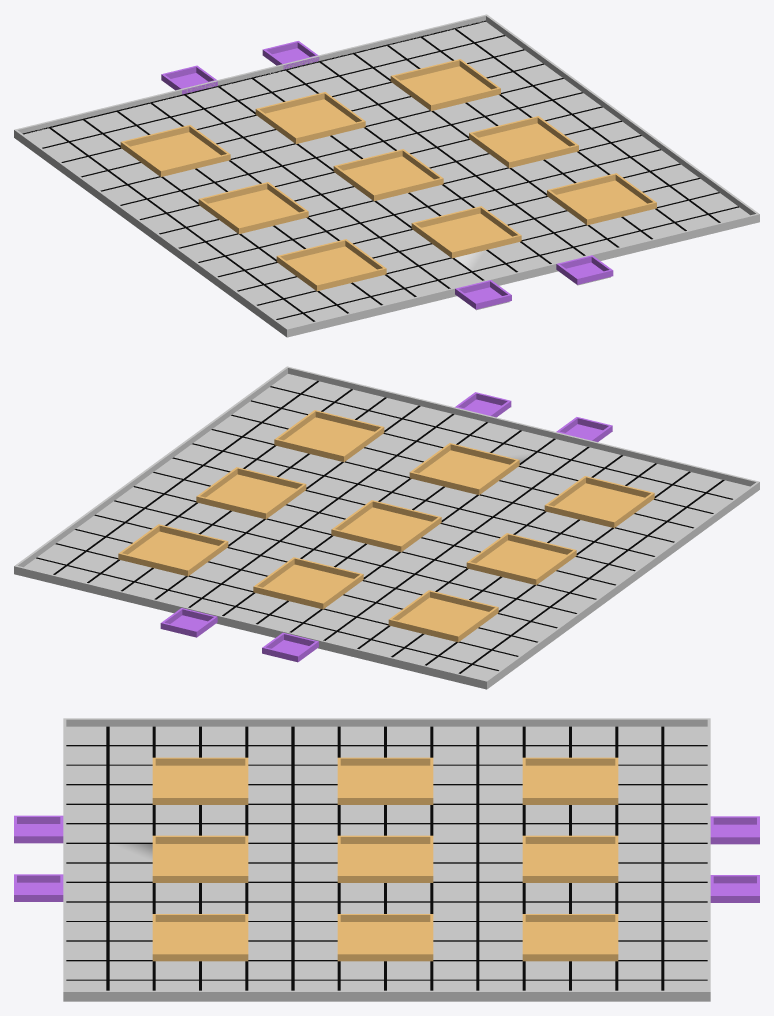
File: arena_s2o.dae
3 renders of one model, top to bottom at view 1: azimuth 30°, elevation 25°; view 2: azimuth 150°, elevation 25°; view 3: azimuth 270°, elevation 25°, orthographic. The views are drawn at different scales.
Visible parts, largest first — view 1: Mesh14_Component_3_1_Group1_Model, Mesh15_Group1_Model, Mesh2_Group3_Component_3_1_Group1_Model, Mesh4_Group5_Component_3_1_Group1_Model, Mesh9_Group10_Component_3_1_Group1_Model, Mesh1_Group2_Component_3_1_Group1_Model, Mesh7_Group8_Component_3_1_Group1_Model, Mesh8_Group9_Component_3_1_Group1_Model, Mesh3_Group4_Component_3_1_Group1_Model, Mesh6_Group7_Component_3_1_Group1_Model, Mesh5_Group6_Component_3_1_Group1_Model, Mesh16_Group1_Model (+4 smaller); view 2: Mesh14_Component_3_1_Group1_Model, Mesh15_Group1_Model, Mesh6_Group7_Component_3_1_Group1_Model, Mesh2_Group3_Component_3_1_Group1_Model, Mesh4_Group5_Component_3_1_Group1_Model, Mesh7_Group8_Component_3_1_Group1_Model, Mesh5_Group6_Component_3_1_Group1_Model, Mesh8_Group9_Component_3_1_Group1_Model, Mesh9_Group10_Component_3_1_Group1_Model, Mesh3_Group4_Component_3_1_Group1_Model, Mesh1_Group2_Component_3_1_Group1_Model, Mesh16_Group1_Model (+4 smaller); view 3: Mesh14_Component_3_1_Group1_Model, Mesh15_Group1_Model, Mesh1_Group2_Component_3_1_Group1_Model, Mesh2_Group3_Component_3_1_Group1_Model, Mesh3_Group4_Component_3_1_Group1_Model, Mesh4_Group5_Component_3_1_Group1_Model, Mesh5_Group6_Component_3_1_Group1_Model, Mesh6_Group7_Component_3_1_Group1_Model, Mesh7_Group8_Component_3_1_Group1_Model, Mesh8_Group9_Component_3_1_Group1_Model, Mesh9_Group10_Component_3_1_Group1_Model, Mesh12_Component_2_3_Component_3_1_Group1_Model (+4 smaller).
Boxes of the visible parts, x1,y1,x2,y2 form: Mesh14_Component_3_1_Group1_Model: [14, 20, 759, 335]; Mesh15_Group1_Model: [14, 14, 759, 335]; Mesh2_Group3_Component_3_1_Group1_Model: [390, 59, 500, 111]; Mesh4_Group5_Component_3_1_Group1_Model: [198, 182, 308, 233]; Mesh9_Group10_Component_3_1_Group1_Model: [255, 92, 365, 143]; Mesh1_Group2_Component_3_1_Group1_Model: [276, 239, 386, 291]; Mesh7_Group8_Component_3_1_Group1_Model: [411, 206, 521, 258]; Mesh8_Group9_Component_3_1_Group1_Model: [333, 149, 443, 201]; Mesh3_Group4_Component_3_1_Group1_Model: [120, 125, 230, 176]; Mesh6_Group7_Component_3_1_Group1_Model: [547, 173, 656, 225]; Mesh5_Group6_Component_3_1_Group1_Model: [469, 116, 578, 168]; Mesh16_Group1_Model: [14, 136, 759, 337]; Mesh14_Component_3_1_Group1_Model: [14, 374, 759, 687]; Mesh15_Group1_Model: [14, 366, 759, 687]; Mesh6_Group7_Component_3_1_Group1_Model: [274, 410, 384, 461]; Mesh2_Group3_Component_3_1_Group1_Model: [118, 524, 228, 576]; Mesh4_Group5_Component_3_1_Group1_Model: [466, 533, 576, 585]; Mesh7_Group8_Component_3_1_Group1_Model: [409, 443, 519, 494]; Mesh5_Group6_Component_3_1_Group1_Model: [196, 467, 306, 519]; Mesh8_Group9_Component_3_1_Group1_Model: [331, 500, 441, 552]; Mesh9_Group10_Component_3_1_Group1_Model: [253, 557, 363, 609]; Mesh3_Group4_Component_3_1_Group1_Model: [388, 590, 498, 642]; Mesh1_Group2_Component_3_1_Group1_Model: [544, 476, 654, 528]; Mesh16_Group1_Model: [14, 488, 759, 689]; Mesh14_Component_3_1_Group1_Model: [63, 726, 710, 999]; Mesh15_Group1_Model: [63, 718, 710, 998]; Mesh1_Group2_Component_3_1_Group1_Model: [152, 757, 248, 804]; Mesh2_Group3_Component_3_1_Group1_Model: [522, 914, 618, 961]; Mesh3_Group4_Component_3_1_Group1_Model: [522, 757, 618, 804]; Mesh4_Group5_Component_3_1_Group1_Model: [337, 757, 433, 804]; Mesh5_Group6_Component_3_1_Group1_Model: [337, 914, 433, 961]; Mesh6_Group7_Component_3_1_Group1_Model: [152, 914, 248, 961]; Mesh7_Group8_Component_3_1_Group1_Model: [152, 835, 248, 882]; Mesh8_Group9_Component_3_1_Group1_Model: [337, 835, 433, 882]; Mesh9_Group10_Component_3_1_Group1_Model: [522, 835, 618, 882]; Mesh12_Component_2_3_Component_3_1_Group1_Model: [710, 816, 759, 844].
Size of the model in its own units: 7 by 8.07 by 0.1133.
